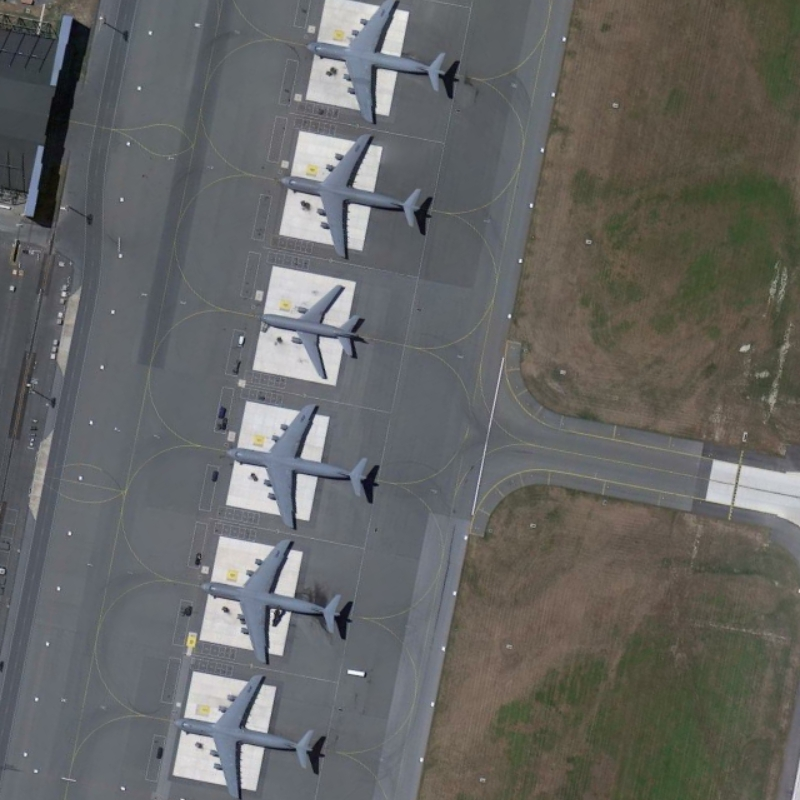A18: (254, 283, 368, 384)
A4: (274, 125, 430, 264), (195, 531, 349, 666), (170, 671, 320, 800), (223, 400, 371, 526), (304, 3, 452, 126)
